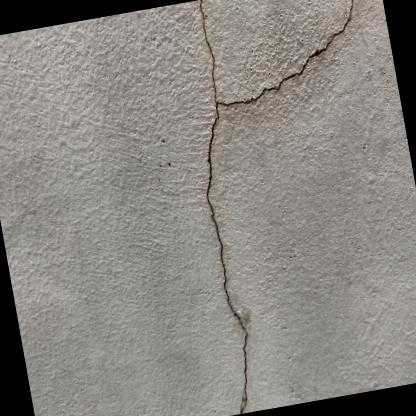crack: (198, 0, 354, 414)
